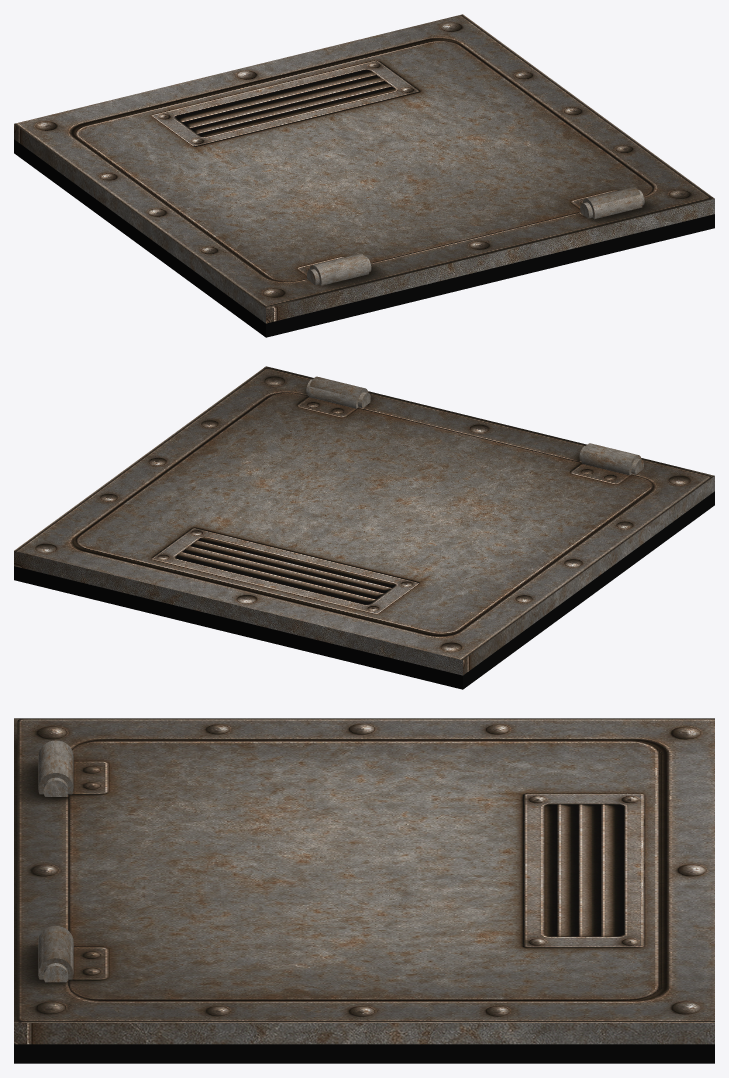
File: TrapdoorMetal.fbx
The picture shows the model from 3 angles, top to bottom: view 1: azimuth 30°, elevation 25°; view 2: azimuth 150°, elevation 25°; view 3: azimuth 270°, elevation 25°; orthographic projection. The views are drawn at different scales.
Parts seen in each view (by area): view 1: Cylinder.001, Cube.001, Cube; view 2: Cylinder.001, Cube.001, Cube; view 3: Cylinder.001, Cube.001, Cube.
Part boxes in pixels (left/top/right/bottom): Cylinder.001: left=75, top=40, right=653, bottom=285; Cube.001: left=14, top=14, right=714, bottom=323; Cube: left=14, top=139, right=714, bottom=337; Cylinder.001: left=74, top=376, right=653, bottom=634; Cube.001: left=14, top=366, right=714, bottom=675; Cube: left=14, top=491, right=714, bottom=689; Cylinder.001: left=38, top=740, right=661, bottom=1000; Cube.001: left=14, top=718, right=714, bottom=1044; Cube: left=14, top=1044, right=714, bottom=1063.
Bounding box in the file's own units: 501 × 47.82 × 488.
